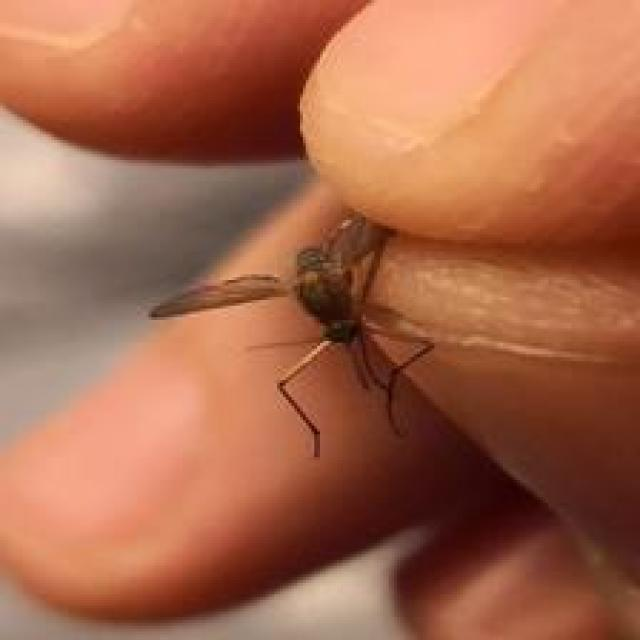Culex: (147, 210, 439, 459)
